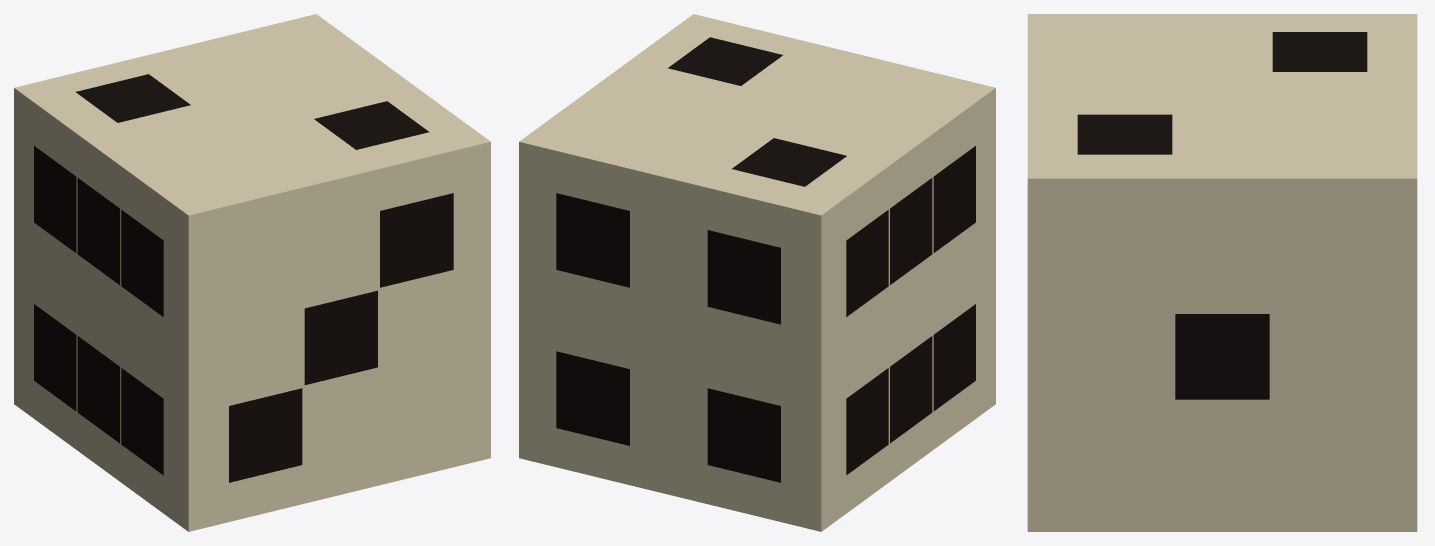
Rendered from dice.obj.
The picture shows the model from 3 angles, left to right: view 1: azimuth 30°, elevation 25°; view 2: azimuth 150°, elevation 25°; view 3: azimuth 270°, elevation 25°; orthographic projection. The views are drawn at different scales.
Bounding box in the file's own units: 0.0712 × 0.0712 × 0.0712.
